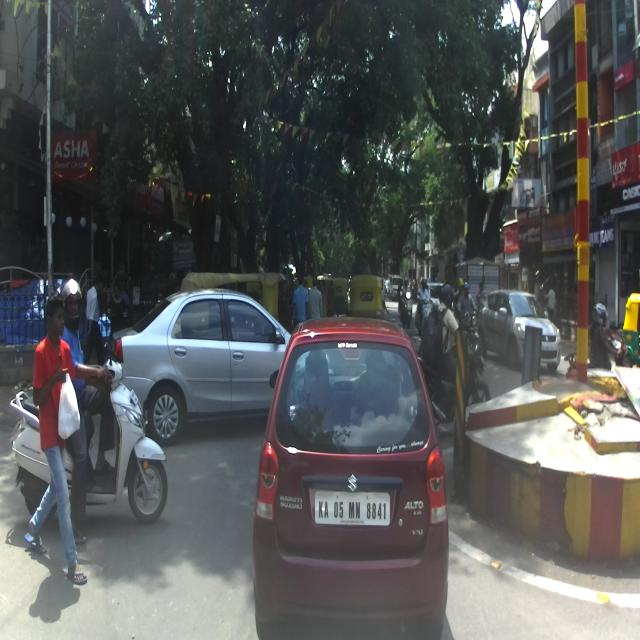car ahead at: (256, 322, 450, 634)
motorcycle ahead at: (9, 358, 171, 530)
